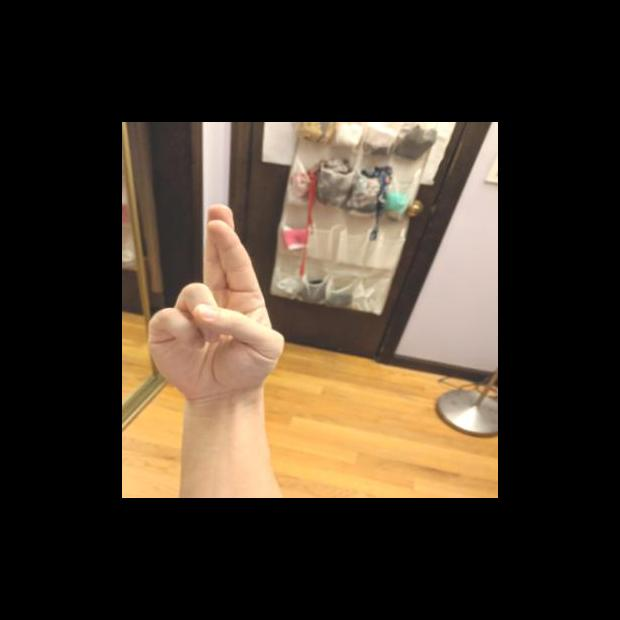Q: (137, 195, 295, 409)
